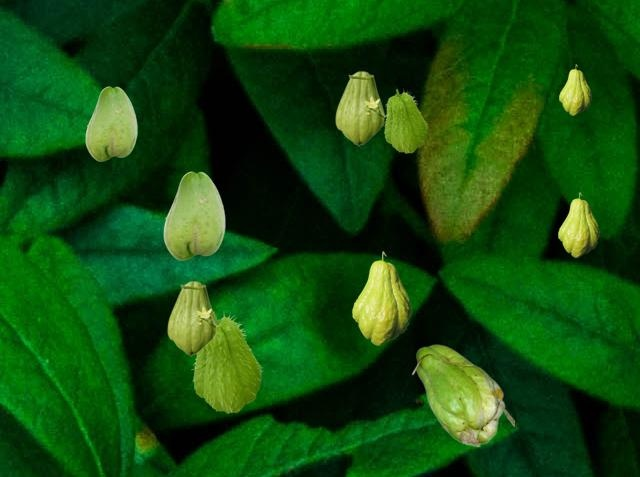sayote: (411, 344, 513, 446), (191, 310, 262, 412), (352, 251, 410, 344), (163, 171, 224, 259), (335, 71, 388, 145), (167, 281, 220, 355), (85, 86, 136, 160), (383, 88, 427, 152), (558, 192, 598, 256), (559, 64, 590, 114)
